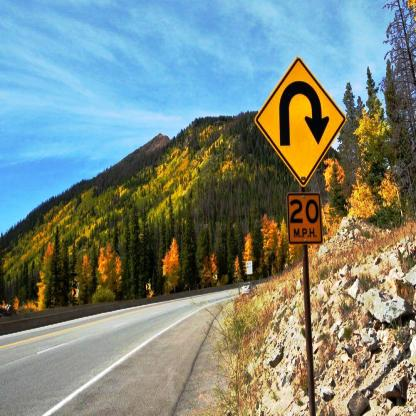U-turn: (257, 61, 346, 180)
